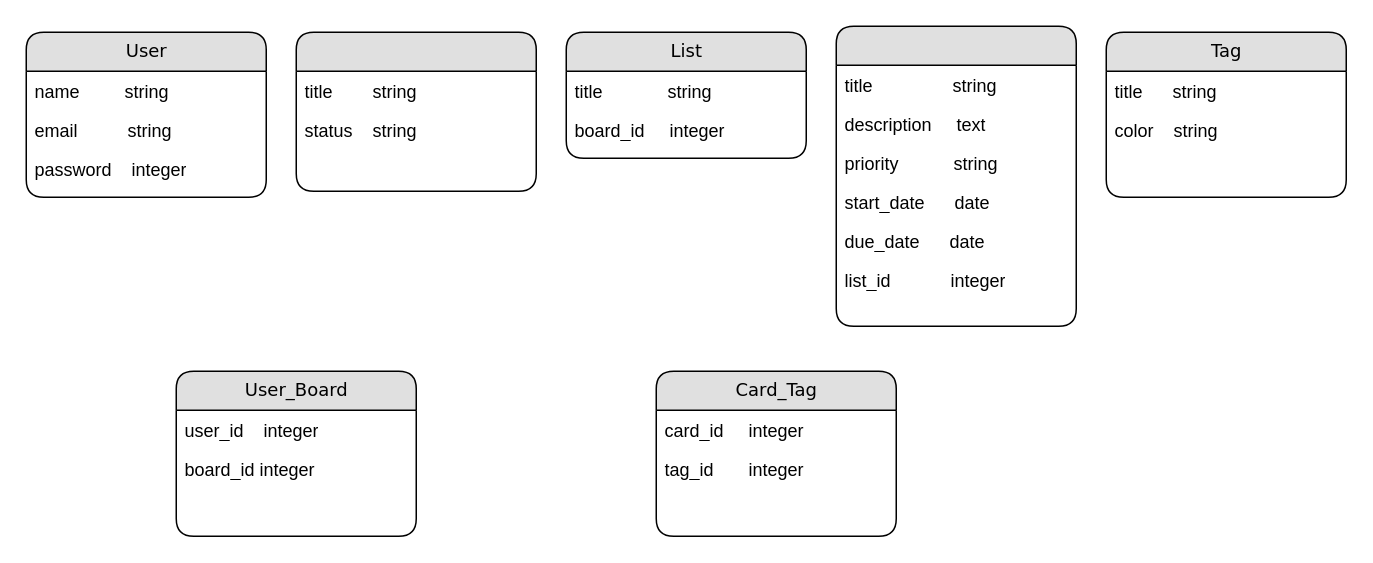
Some shapes in this 1373 by 563 pixel diagram are drawn without their labels. Here are the shapes that lost their labels. From the top down, the box of each, then its label:
(295, 31, 536, 191): Board
(835, 25, 1076, 326): Card
